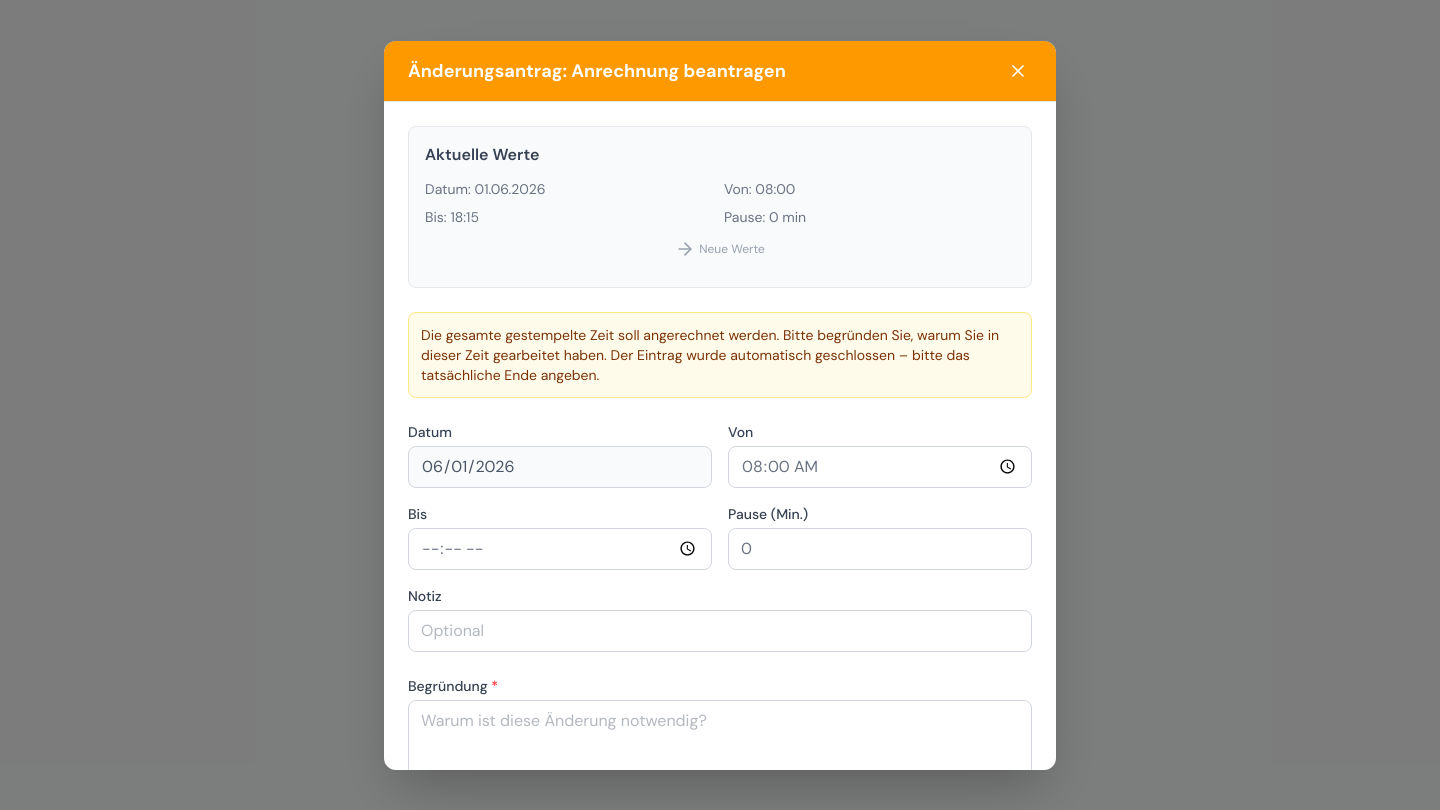
Test: ChangeRequestForm — Anrechnung beantragen (Spec P21) › verlangt bei einem automatisch geschlossenen Eintrag das tatsächliche Ende (P18)
Expected: the time field labelled "Bis" is empty, [408,528,712,570]
In the text box with placeholder "Warum ist diese Änderung notwendig?": (720,744) [408,700,1032,790], type "Vergessen zu stempeln"
(page scrolled)
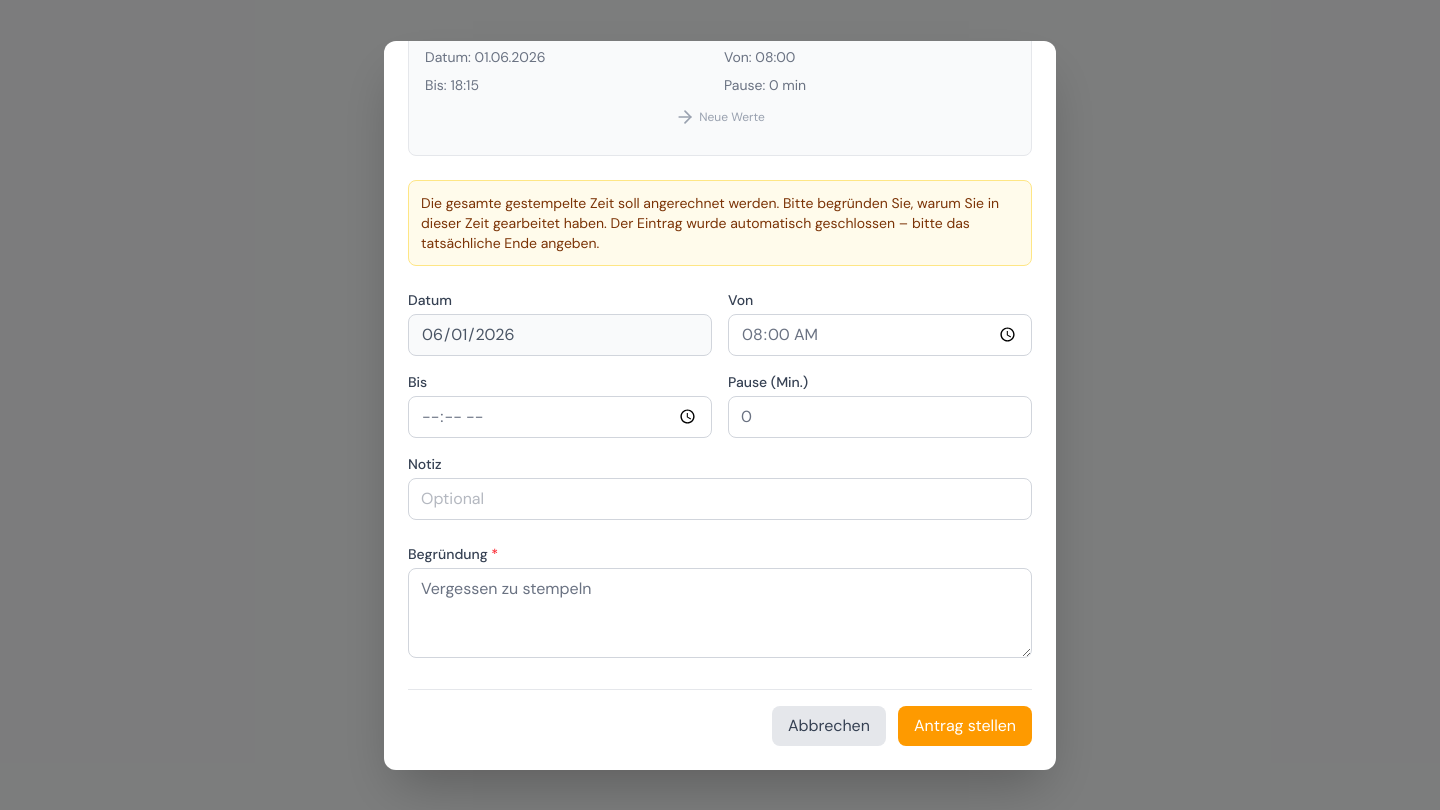
Click the button "Antrag stellen": (965,726) [898,706,1032,746]
(page scrolled)
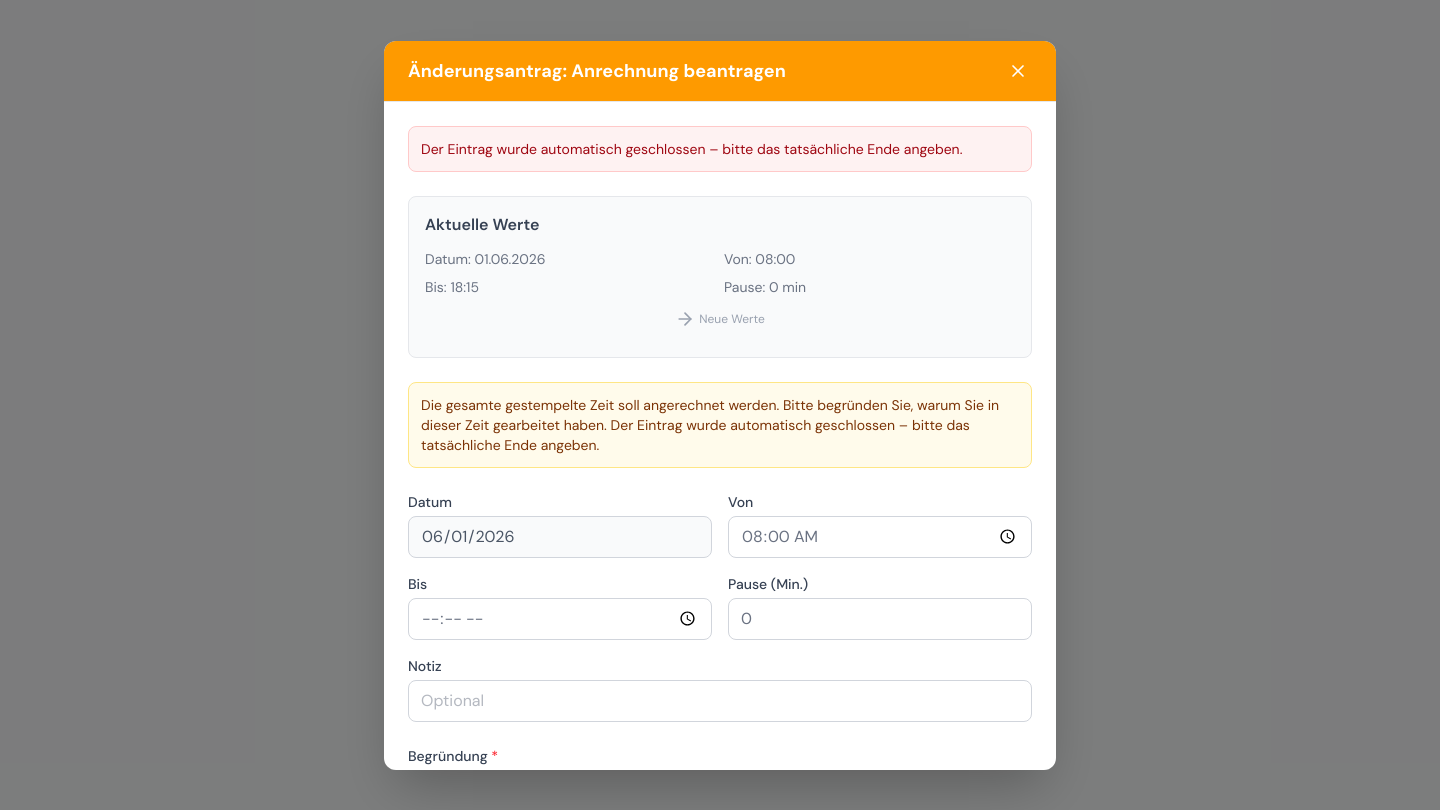
Result: the text "Der Eintrag wurde automatisch geschlossen – bitte das tatsächliche Ende angeben." is shown at [421,138,1019,158]
